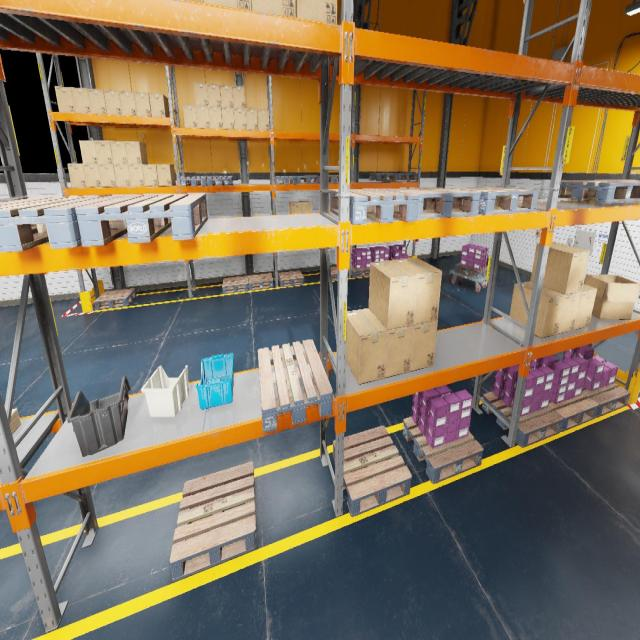box: (368, 260, 417, 330), (394, 257, 442, 325), (509, 281, 565, 338), (346, 308, 387, 385), (530, 242, 590, 294), (369, 309, 413, 377), (531, 281, 581, 334), (583, 274, 640, 320), (410, 320, 438, 371), (574, 284, 597, 329), (295, 0, 337, 24), (252, 0, 296, 17), (124, 141, 148, 164), (55, 86, 75, 113), (71, 87, 91, 113), (149, 93, 170, 117), (203, 0, 252, 10), (88, 88, 106, 115), (119, 90, 137, 116), (104, 89, 122, 115), (67, 164, 87, 187), (156, 164, 176, 186), (83, 164, 102, 187), (79, 140, 98, 163), (113, 164, 131, 187), (98, 164, 116, 187), (95, 140, 113, 163), (134, 92, 151, 116), (110, 141, 127, 164), (128, 164, 145, 186), (142, 164, 158, 186), (194, 82, 208, 106), (183, 105, 197, 128), (221, 107, 235, 129), (207, 84, 221, 106), (196, 106, 210, 128), (232, 85, 245, 108), (220, 85, 233, 107), (209, 106, 222, 128), (246, 108, 258, 130), (234, 108, 246, 130), (10, 408, 20, 434), (258, 109, 270, 130), (290, 201, 302, 214), (299, 201, 311, 213), (328, 200, 332, 212)
pallets: (169, 462, 256, 581), (332, 425, 412, 517), (75, 193, 208, 247), (0, 195, 124, 252), (258, 339, 332, 433), (403, 416, 483, 484), (482, 392, 563, 447), (330, 188, 419, 224), (384, 187, 480, 219), (451, 187, 539, 214), (542, 393, 598, 431), (558, 180, 640, 203), (576, 383, 631, 417), (94, 288, 136, 310), (454, 262, 488, 279), (222, 275, 248, 294), (278, 270, 304, 287), (248, 274, 274, 290), (328, 266, 348, 281), (348, 266, 370, 278), (180, 177, 208, 186), (294, 175, 320, 184), (207, 176, 233, 185), (369, 173, 398, 181), (390, 173, 417, 180), (275, 176, 297, 184), (319, 176, 339, 183)
